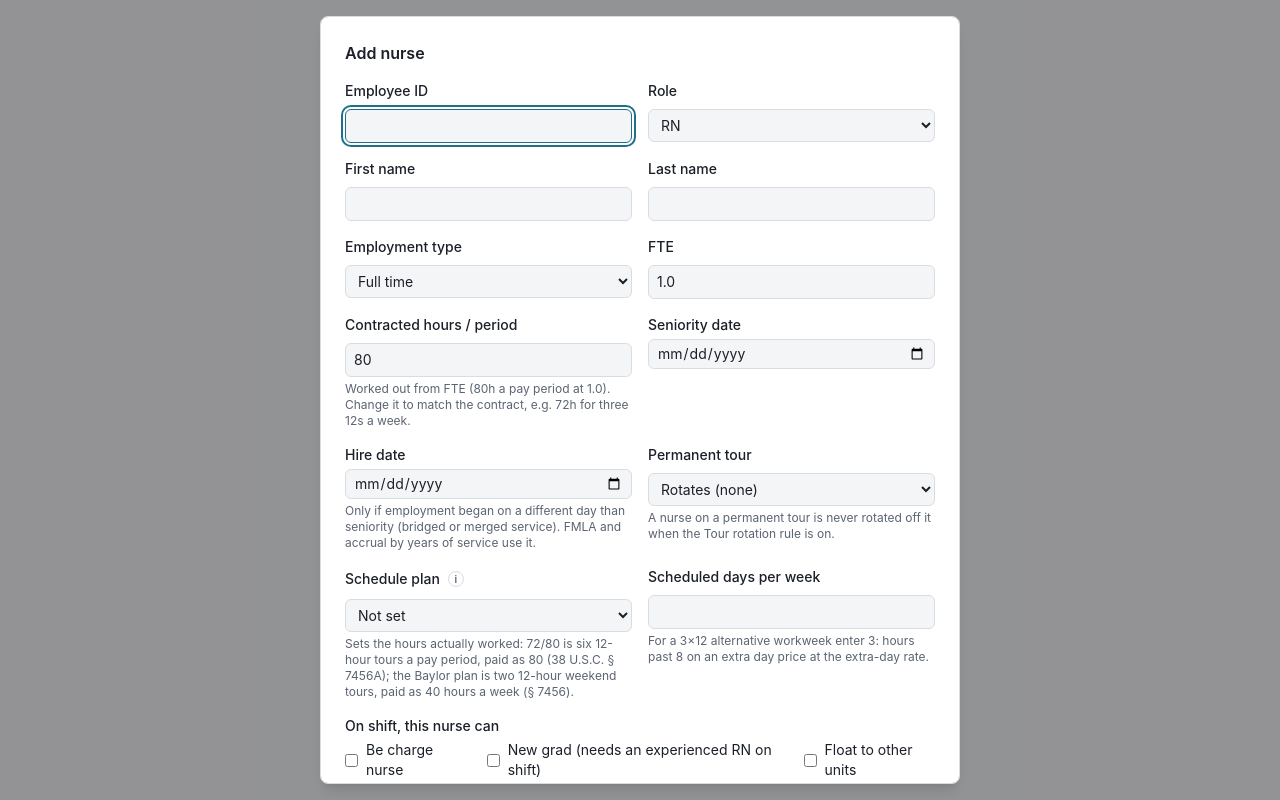
Test: choosing a nurse’s schedule plan › fills 1.0 FTE and 48 worked hours for the Baylor plan
Select "VA Baylor weekend plan (38 U.S.C. § 7456)" in the dropdown labelled "Schedule plan" at (488, 616), box [345,599,632,632]
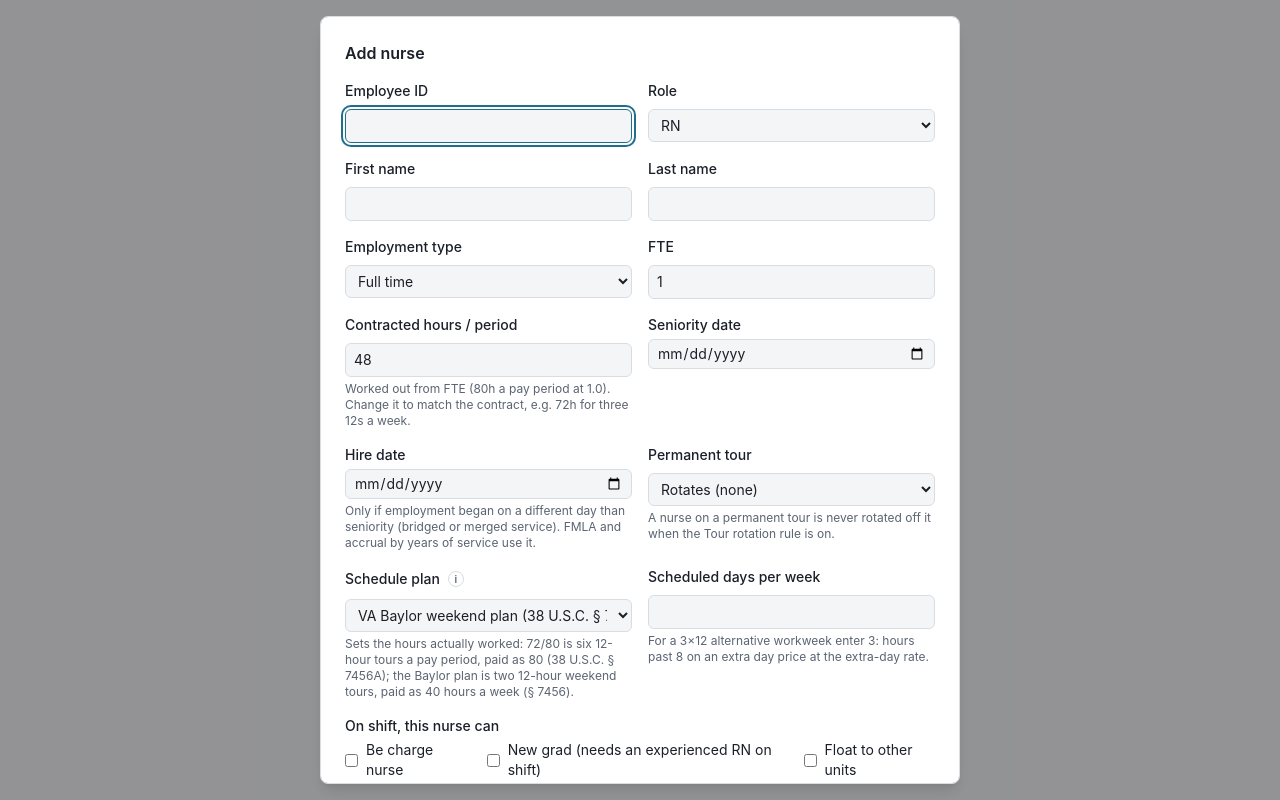
Check: the number field labelled "FTE" holds "1", box [648,265,935,299]
Check: the number field labelled "Contracted hours / period" holds "48", box [345,343,632,377]
